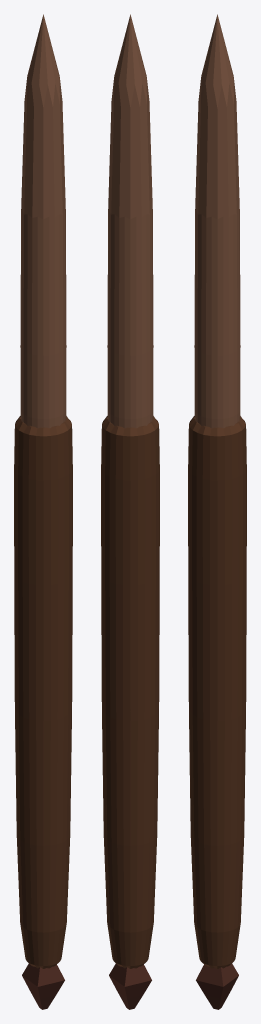
The model's file is Wand 5.glb.
The picture shows the model from 3 angles, left to right: view 1: azimuth 30°, elevation 25°; view 2: azimuth 210°, elevation 25°; view 3: azimuth 330°, elevation 25°; orthographic projection.
Visible parts, largest first — view 1: GeneratedWand; view 2: GeneratedWand; view 3: GeneratedWand.
Part boxes in pixels (x1,y1,x2,y2): GeneratedWand: [14, 14, 72, 1009]; GeneratedWand: [101, 14, 159, 1009]; GeneratedWand: [188, 14, 246, 1009].
Bounding box in the file's own units: 0.0273 × 0.5092 × 0.0273.
